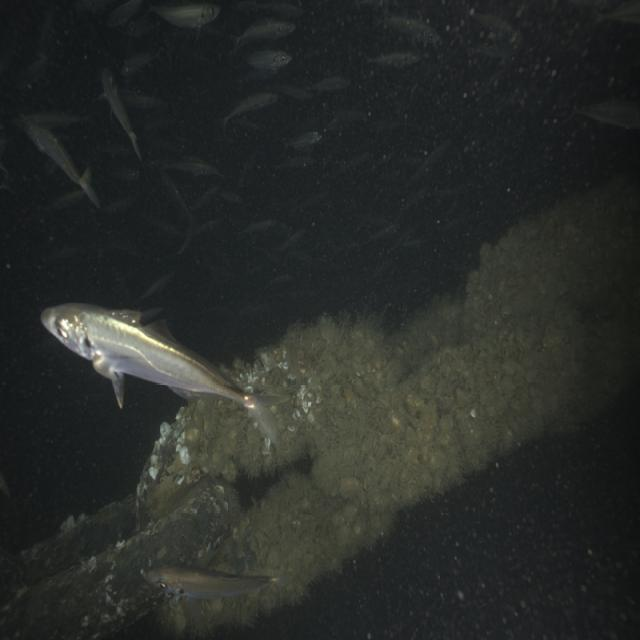ChainLink: (310, 303, 584, 511), (138, 318, 408, 524), (466, 183, 640, 423), (0, 479, 238, 639), (159, 474, 391, 635)
